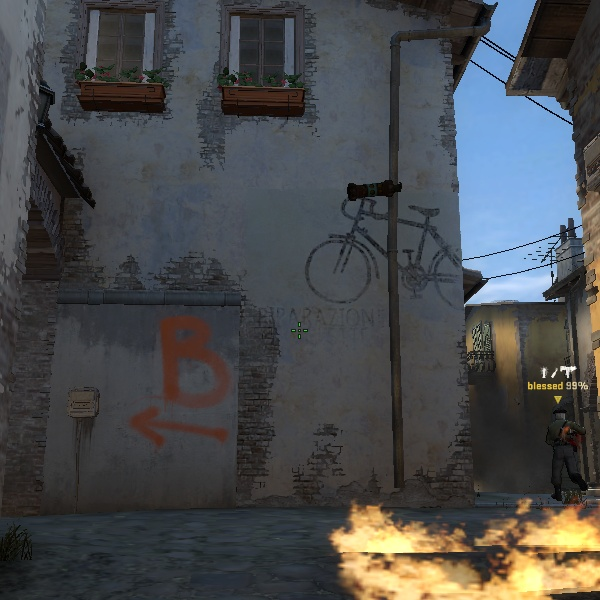t_body: (536, 403, 590, 494)
